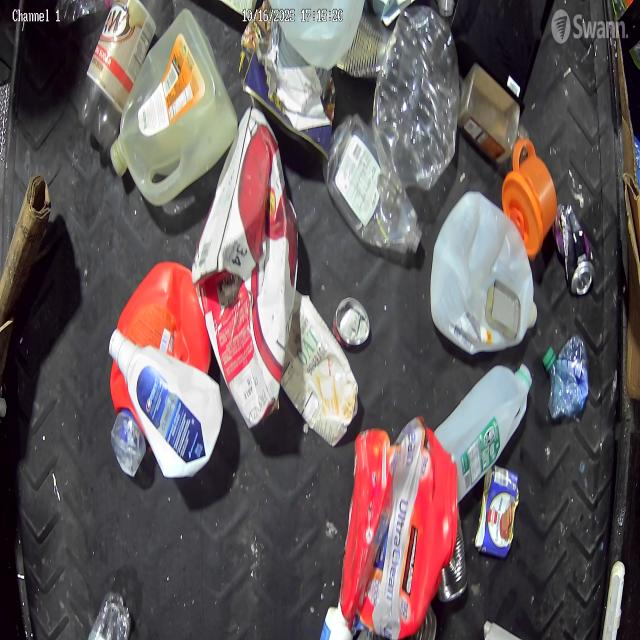can: (550, 193, 599, 298), (334, 7, 392, 82), (474, 466, 520, 559), (332, 281, 374, 355)
milk_jug: (108, 3, 237, 207), (432, 193, 538, 357), (436, 364, 535, 496)
non_white_jug: (191, 104, 300, 431), (339, 418, 458, 640), (110, 260, 213, 430)
plastic_bottle: (374, 6, 461, 191), (323, 110, 422, 272), (71, 0, 156, 142), (540, 327, 594, 435)
